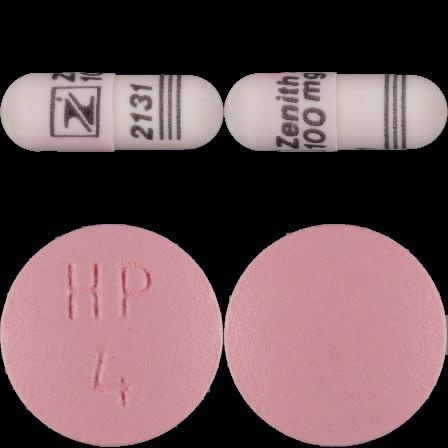54868-0473: (0, 0, 224, 224)
